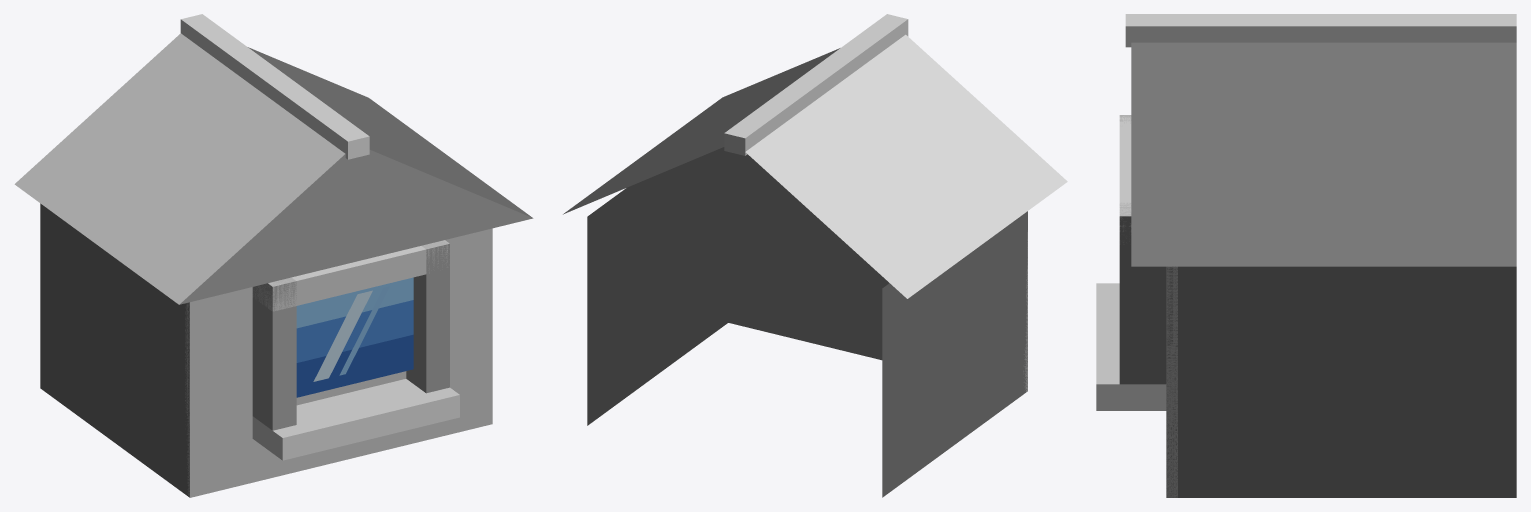
The model's file is bld_dormer.glb.
3 renders of one model, left to right at view 1: azimuth 30°, elevation 25°; view 2: azimuth 150°, elevation 25°; view 3: azimuth 270°, elevation 25°, orthographic. The views are drawn at different scales.
Parts seen in each view (by area): view 1: bld_dormer; view 2: bld_dormer; view 3: bld_dormer.
Part boxes in pixels (x1,y1,x2,y2): bld_dormer: (14,14,533,497); bld_dormer: (563,14,1067,497); bld_dormer: (1096,14,1516,497).
Size of the model in its own units: 1.02 by 0.925 by 0.9.
